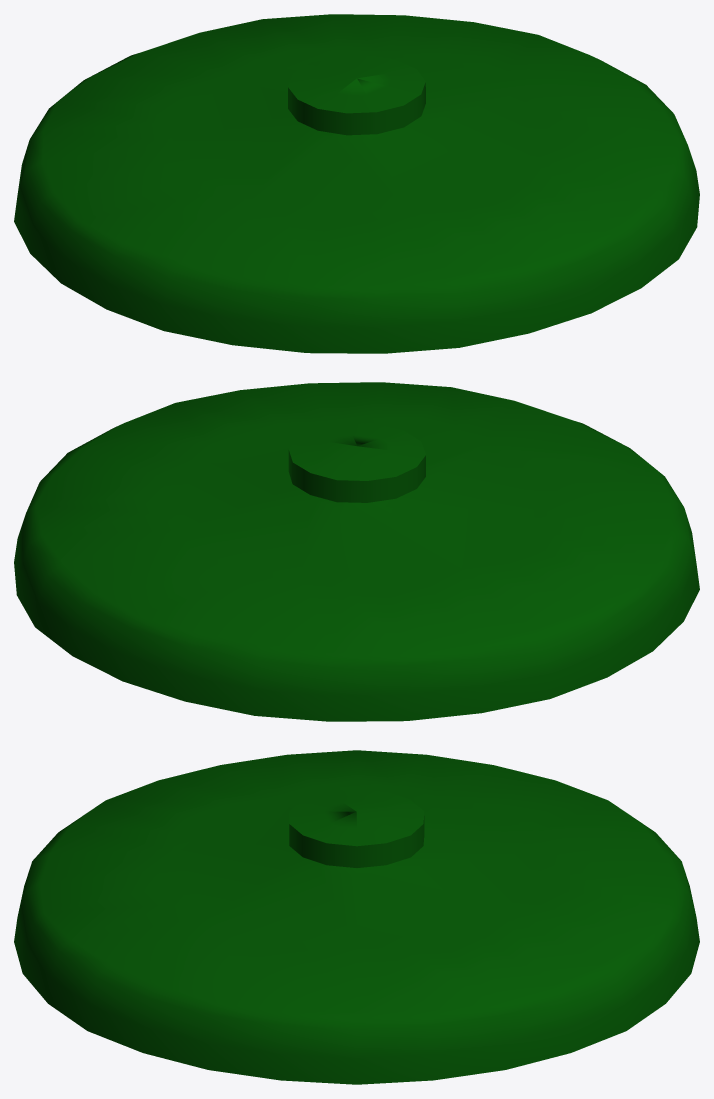
The model's file is jug11a.FBX.
The picture shows the model from 3 angles, top to bottom: view 1: azimuth 30°, elevation 25°; view 2: azimuth 150°, elevation 25°; view 3: azimuth 270°, elevation 25°; orthographic projection.
Parts seen in each view (by area): view 1: SM_jug11a_0; view 2: SM_jug11a_0; view 3: SM_jug11a_0.
Boxes of the visible parts, left/top/right/bottom form: SM_jug11a_0: left=14, top=14, right=699, bottom=353; SM_jug11a_0: left=14, top=382, right=699, bottom=721; SM_jug11a_0: left=14, top=750, right=699, bottom=1084.
Bounding box in the file's own units: 35.76 × 35.68 × 7.63.
